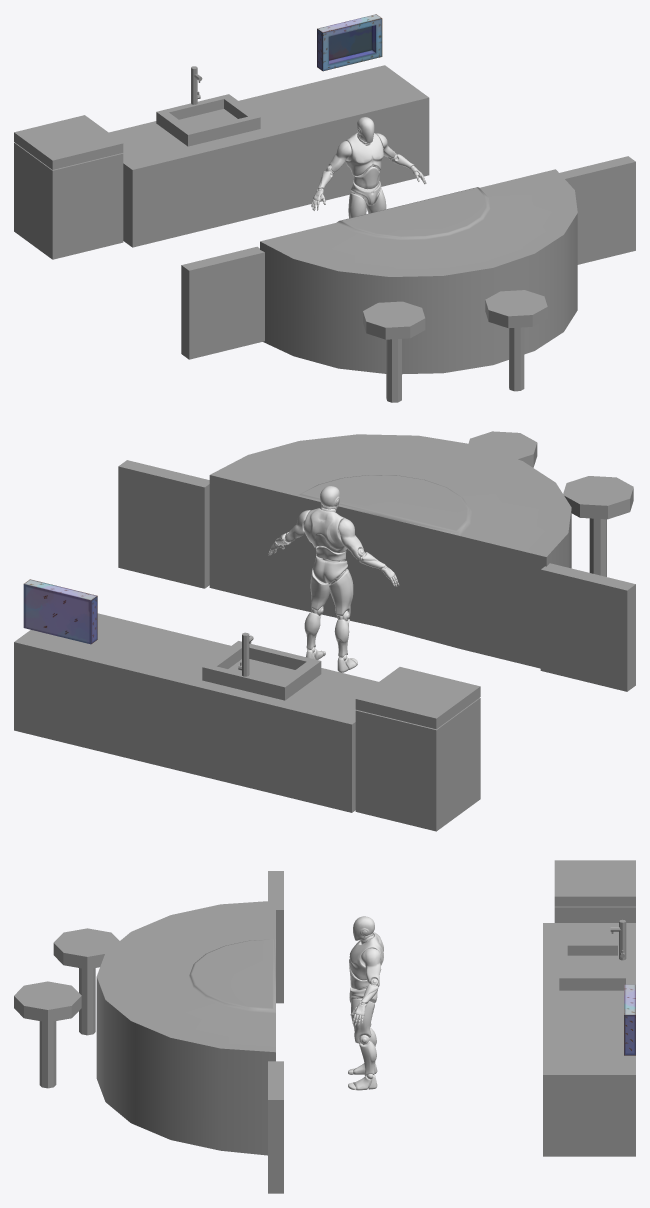
Rendered from updated environment.fbx.
The picture shows the model from 3 angles, top to bottom: view 1: azimuth 30°, elevation 25°; view 2: azimuth 150°, elevation 25°; view 3: azimuth 270°, elevation 25°; orthographic projection. The views are drawn at different scales.
Visible parts, largest first — view 1: Customer_and_Chopping, prep_counter, bin, Divider, Divider_Door, UE_Mannequin:SK_Mannequin, bin_lid, kitchen_sink, pCylinder34, Chair, polySurface3; view 2: Customer_and_Chopping, prep_counter, bin, Divider, Divider_Door, UE_Mannequin:SK_Mannequin, bin_lid, kitchen_sink, polySurface3, pCylinder34, Chair; view 3: Customer_and_Chopping, prep_counter, UE_Mannequin:SK_Mannequin, bin_lid, Chair, kitchen_sink, pCylinder34, Divider_Door, bin, Divider, polySurface3.
Boxes of the visible parts, x1,y1,x2,y2 form: Customer_and_Chopping: [260, 169, 577, 374]; prep_counter: [109, 65, 429, 247]; bin: [14, 142, 123, 259]; Divider: [181, 246, 264, 359]; Divider_Door: [559, 156, 635, 264]; UE_Mannequin:SK_Mannequin: [311, 117, 426, 218]; bin_lid: [14, 115, 123, 169]; kitchen_sink: [156, 94, 260, 146]; pCylinder34: [363, 301, 425, 402]; Chair: [485, 290, 547, 391]; polySurface3: [317, 14, 382, 71]; Customer_and_Chopping: [209, 434, 571, 668]; prep_counter: [14, 613, 378, 812]; bin: [355, 698, 480, 831]; Divider: [540, 563, 635, 691]; Divider_Door: [118, 460, 209, 588]; UE_Mannequin:SK_Mannequin: [268, 486, 399, 672]; bin_lid: [355, 667, 480, 729]; kitchen_sink: [202, 641, 321, 700]; polySurface3: [23, 579, 97, 644]; pCylinder34: [563, 476, 633, 576]; Chair: [468, 431, 537, 467]; Customer_and_Chopping: [96, 900, 275, 1155]; prep_counter: [543, 923, 635, 1156]; UE_Mannequin:SK_Mannequin: [348, 916, 383, 1090]; bin_lid: [554, 860, 635, 906]; Chair: [14, 981, 81, 1088]; kitchen_sink: [559, 941, 625, 990]; pCylinder34: [53, 928, 119, 1035]; Divider_Door: [268, 1061, 283, 1193]; bin: [554, 906, 635, 922]; Divider: [268, 871, 283, 1003]; polySurface3: [624, 984, 635, 1055].
Bounding box in the file's own units: 602 × 205 × 691.
